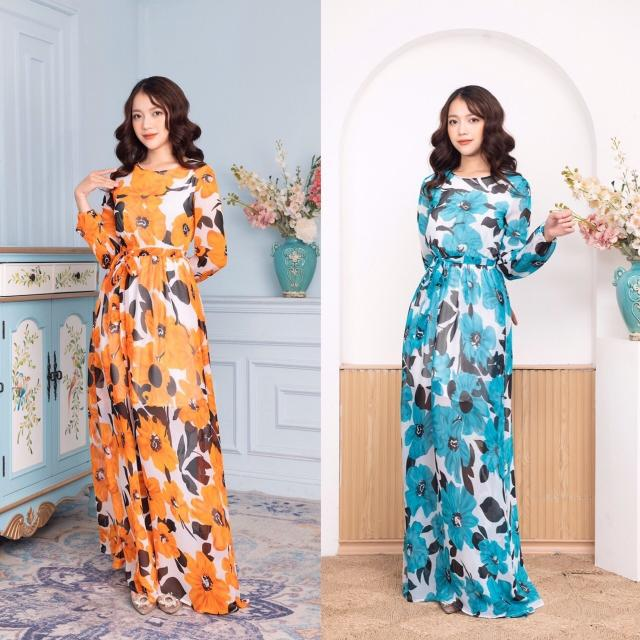clothes: (72, 156, 246, 614), (400, 167, 550, 617)
